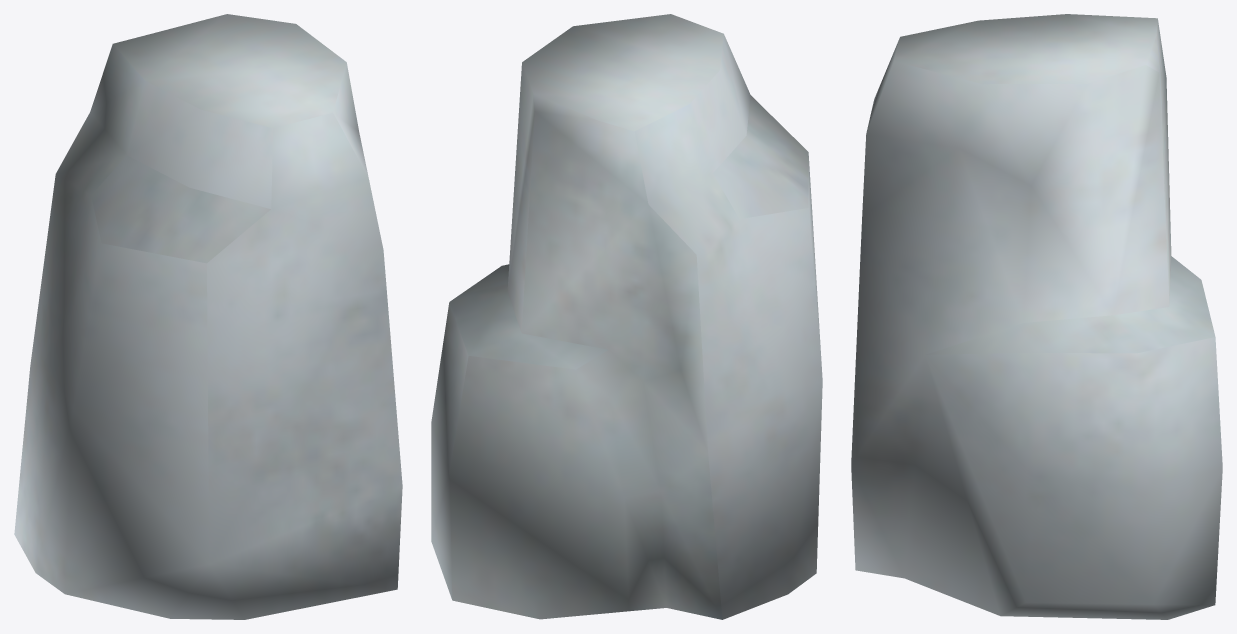
The model's file is P_RockSpire_Rock13.obj.
3 renders of one model, left to right at view 1: azimuth 30°, elevation 25°; view 2: azimuth 150°, elevation 25°; view 3: azimuth 270°, elevation 25°, orthographic. The views are drawn at different scales.
Bounding box in the file's own units: 8.6 × 13.03 × 8.28.
